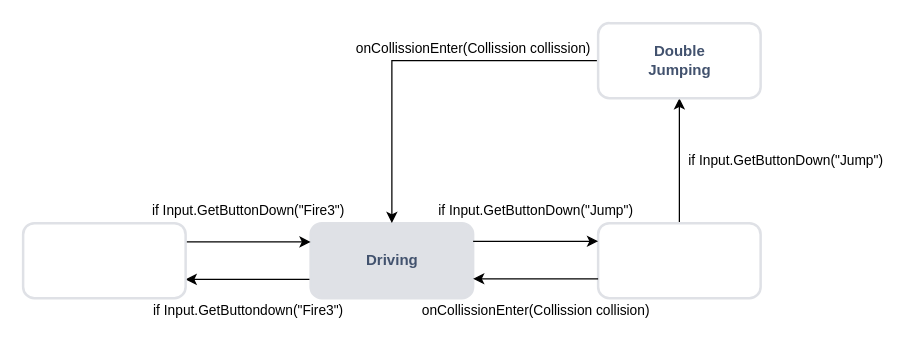
Some shapes in this 904 by 340 pixel diagram are drawn without their labels. Here are the shapes that lost their labels. From the top down, the centre of each, then its label:
pixel 103 260: Spasming
pixel 678 260: Jumping
